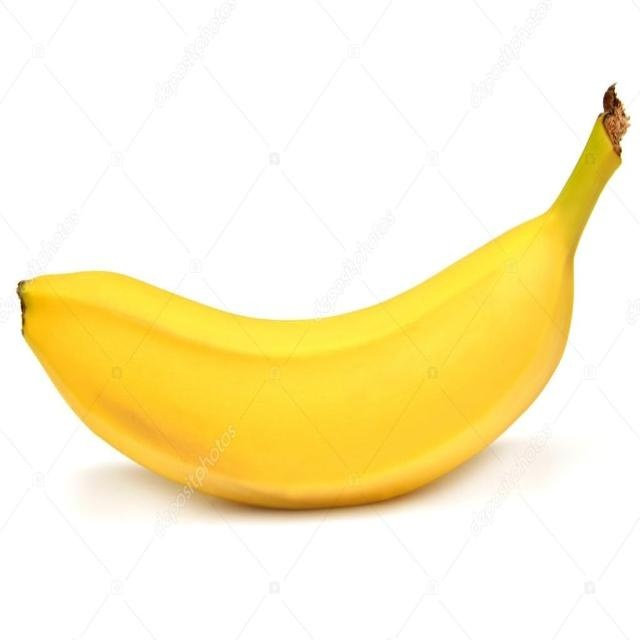agrume: (16, 85, 628, 513)
